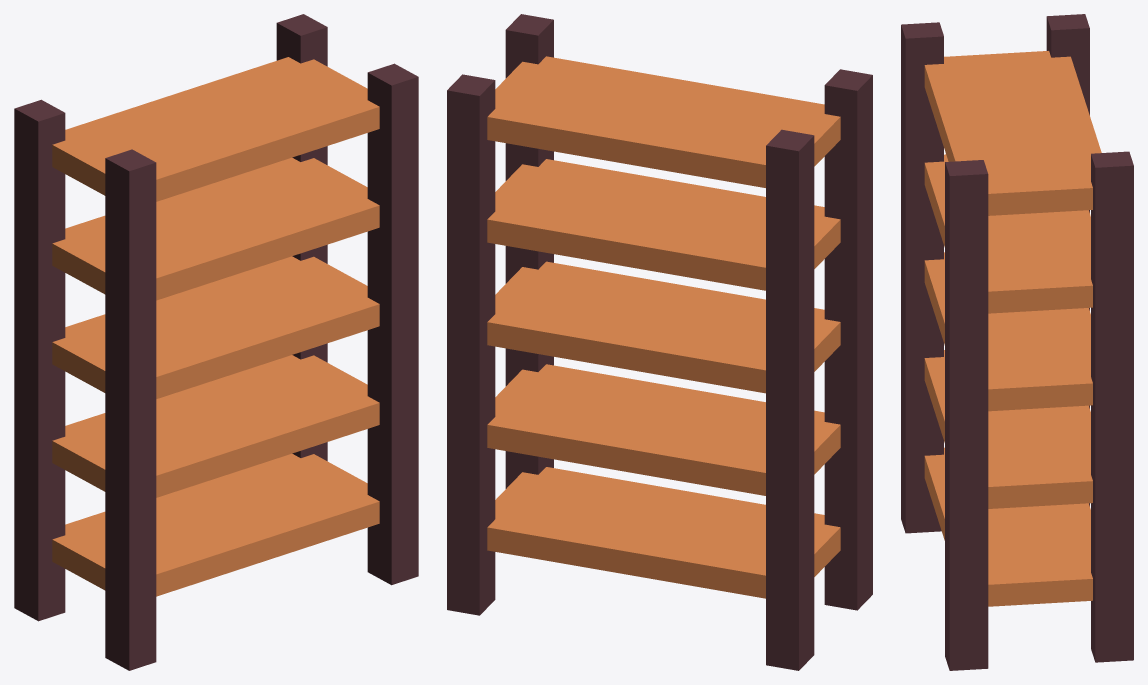
The model's file is armario-madeira-pequeno.fbx.
3 views of the same model, side by side, from view 1: azimuth 30°, elevation 25°; view 2: azimuth 150°, elevation 25°; view 3: azimuth 270°, elevation 25° (orthographic). The views are drawn at different scales.
Parts seen in each view (by area): view 1: Plane.109; view 2: Plane.109; view 3: Plane.109.
Part boxes in pixels (left/top/right/bottom): Plane.109: left=14, top=14, right=418, bottom=670; Plane.109: left=447, top=14, right=872, bottom=670; Plane.109: left=901, top=14, right=1133, bottom=670.
Bounding box in the file's own units: 2.26 × 3.21 × 1.37.
